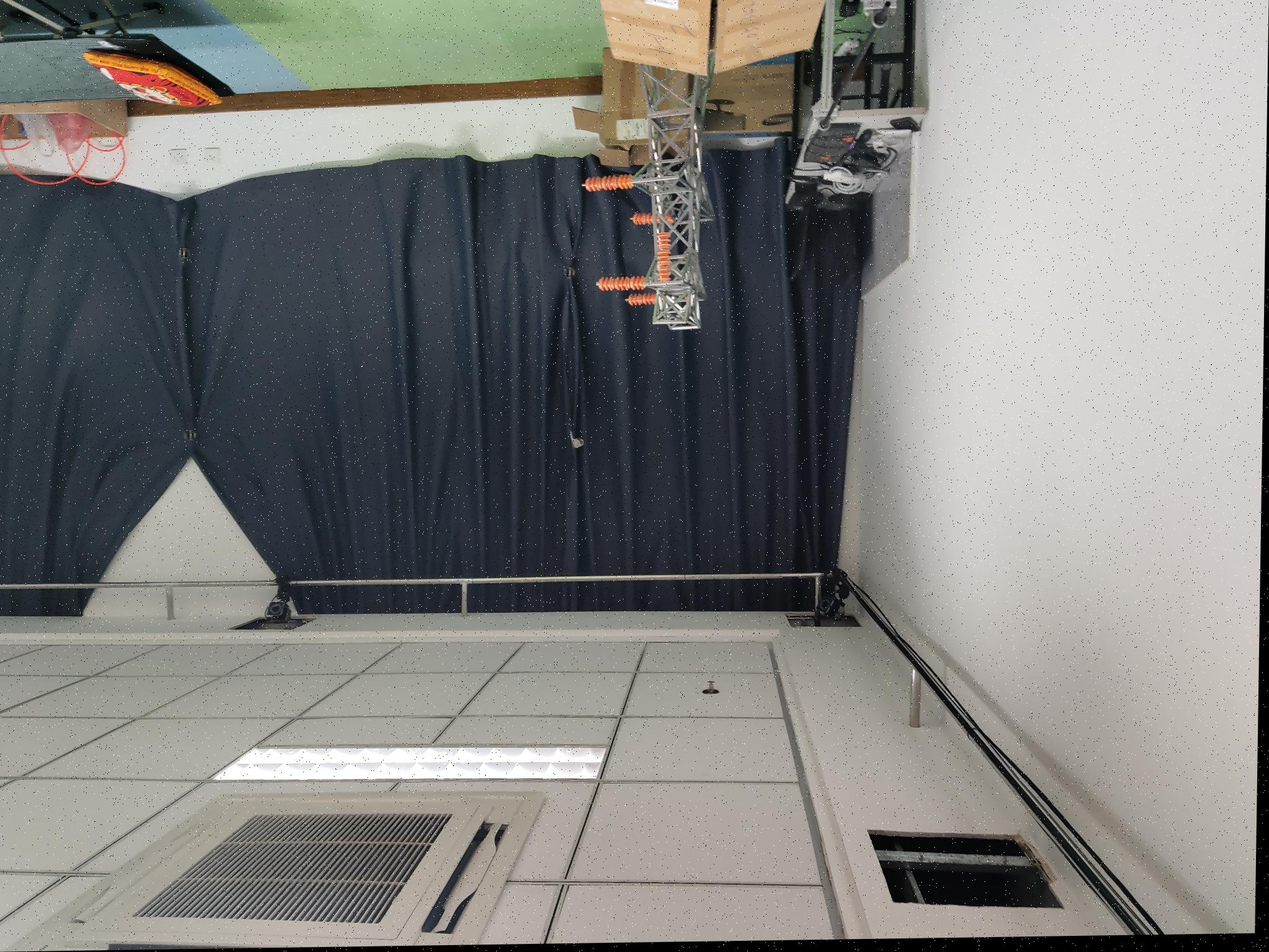tower: (632, 70, 717, 332)
